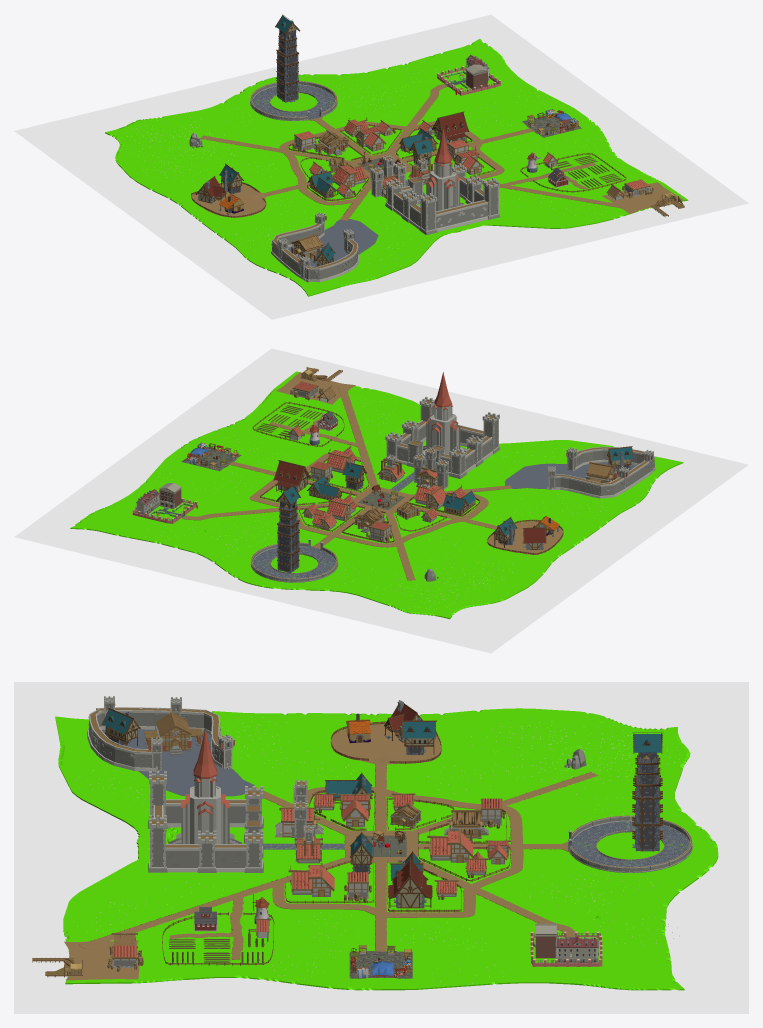
File: island3_model.glb
3 renders of one model, top to bottom at view 1: azimuth 30°, elevation 25°; view 2: azimuth 150°, elevation 25°; view 3: azimuth 270°, elevation 25°, orthographic. The views are drawn at different scales.
Visible parts, largest first — view 1: Cube.003, sea, path, WonderWalls_SecondAge, Wall_SecondAge.002, House_3.001, Temple_SecondAge_Level2, Grid, Path_Straight.001, Plane.001, Barracks_SecondAge_Level3, Plane (+9 smaller); view 2: Cube.003, sea, path, WonderWalls_SecondAge, Wall_SecondAge.002, House_3.001, Temple_SecondAge_Level2, Grid, Path_Straight.001, Barracks_SecondAge_Level3, Plane.001, Inn (+12 smaller); view 3: Cube.003, sea, path, WonderWalls_SecondAge, Wall_SecondAge.002, Temple_SecondAge_Level2, House_3.001, Grid, Path_Straight.001, Plane.001, Plane, Inn (+24 smaller).
Boxes of the visible parts, x1,y1,x2,y2 form: Cube.003: (105,39,688,296); sea: (14,14,748,319); path: (200,84,632,220); WonderWalls_SecondAge: (385,163,500,235); Wall_SecondAge.002: (271,223,359,282); House_3.001: (275,14,300,102); Temple_SecondAge_Level2: (419,129,463,211); Grid: (287,219,378,266); Path_Straight.001: (250,85,337,120); Plane.001: (191,184,265,217); Barracks_SecondAge_Level3: (370,155,406,198); Plane: (602,182,684,214); Cube.003: (70,371,683,619); sea: (14,348,748,653); path: (182,387,511,580); WonderWalls_SecondAge: (385,396,500,478); Wall_SecondAge.002: (551,446,656,498); House_3.001: (276,485,300,572); Temple_SecondAge_Level2: (423,372,466,455); Grid: (505,462,636,489); Path_Straight.001: (250,546,338,582); Barracks_SecondAge_Level3: (413,447,448,489); Plane.001: (486,521,563,554); Inn: (273,460,310,492); Cube.003: (55,708,718,990); sea: (14,682,748,1013); path: (78,764,598,959); WonderWalls_SecondAge: (148,771,263,872); Wall_SecondAge.002: (87,707,228,771); Temple_SecondAge_Level2: (168,728,241,843); House_3.001: (632,732,663,851); Grid: (101,729,254,796); Path_Straight.001: (568,821,692,872); Plane.001: (330,723,441,764); Plane: (64,940,139,980); Inn: (388,857,432,908).
Bounding box in the file's own units: 320 × 56.78 × 300.
Materials: 1538 (7 with a texture image).
